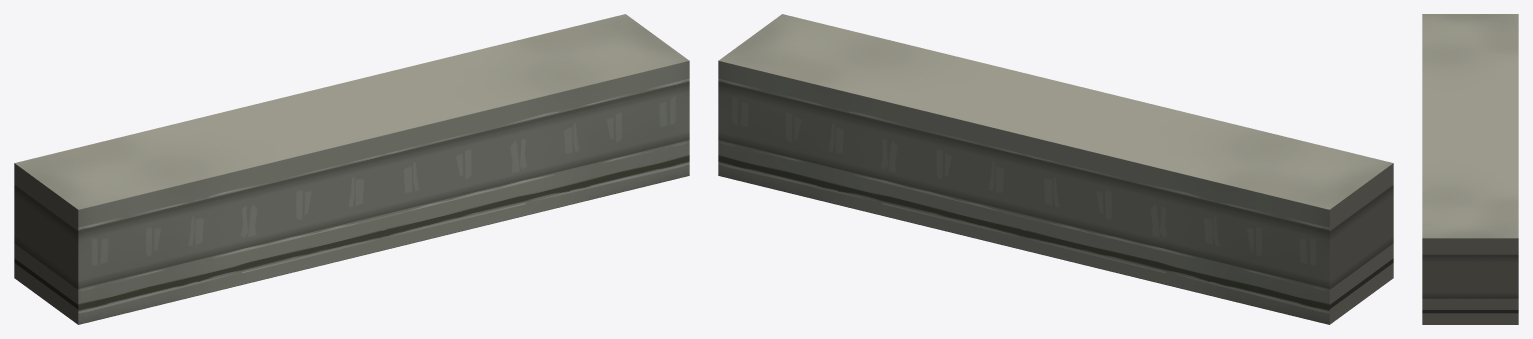
File: Dg_01_StoneObjects_02.FBX
3 renders of one model, left to right at view 1: azimuth 30°, elevation 25°; view 2: azimuth 150°, elevation 25°; view 3: azimuth 270°, elevation 25°, orthographic. The views are drawn at different scales.
Visible parts, largest first — view 1: Dg_01_StoneObjects_02; view 2: Dg_01_StoneObjects_02; view 3: Dg_01_StoneObjects_02.
Boxes of the visible parts, x1,y1,x2,y2 form: Dg_01_StoneObjects_02: (14, 14, 689, 324); Dg_01_StoneObjects_02: (718, 14, 1393, 324); Dg_01_StoneObjects_02: (1422, 14, 1518, 324).
Size of the model in its own units: 5 by 0.9 by 0.9046.
